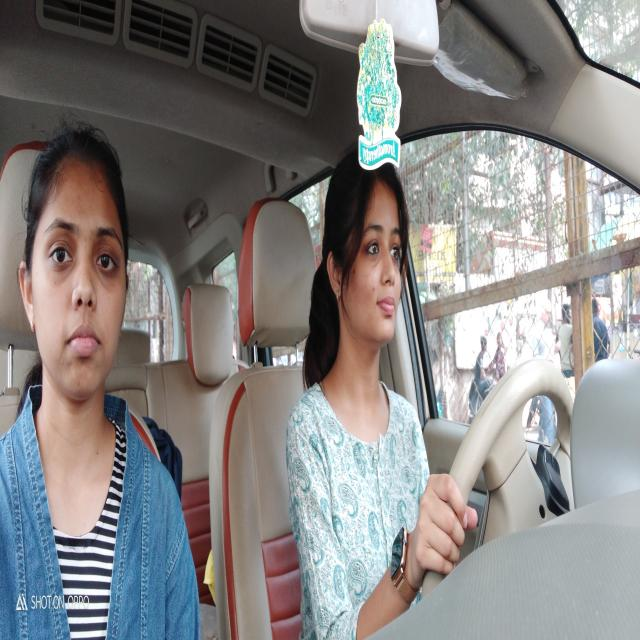person: (16, 122, 134, 432), (319, 135, 418, 391)
